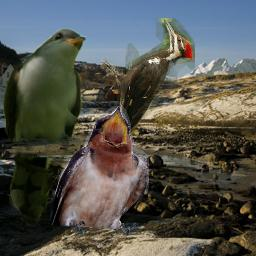Cuckoo: (2, 28, 87, 225)
Swallow: (50, 106, 149, 237)
Woodpecker: (97, 18, 195, 163)
